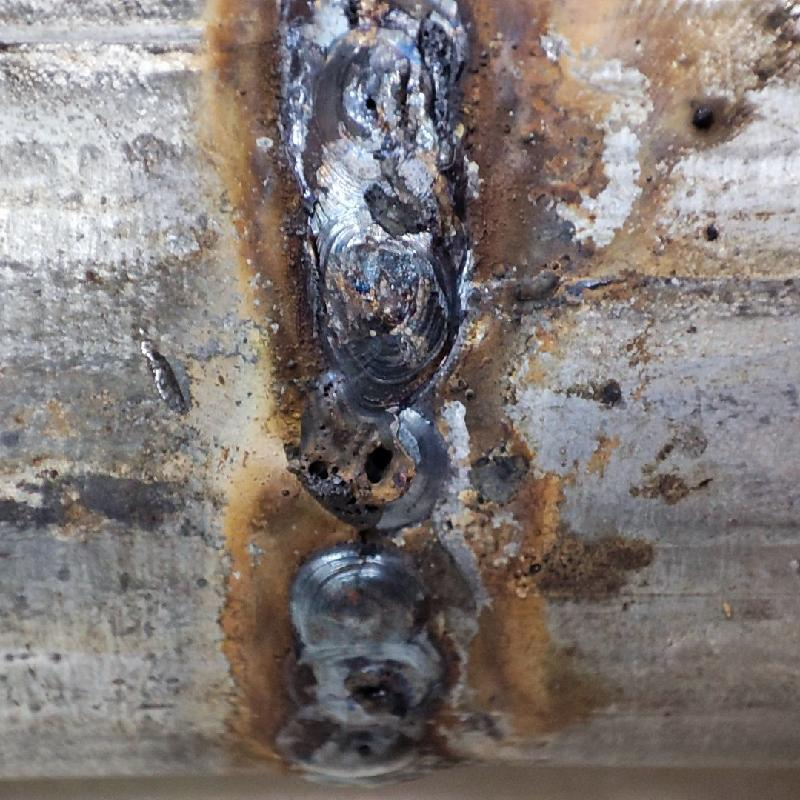Not_fully_soldered: (298, 507, 450, 569)
Surface_pores: (294, 412, 410, 501), (331, 74, 402, 129)
wrong_size: (281, 5, 463, 775)
